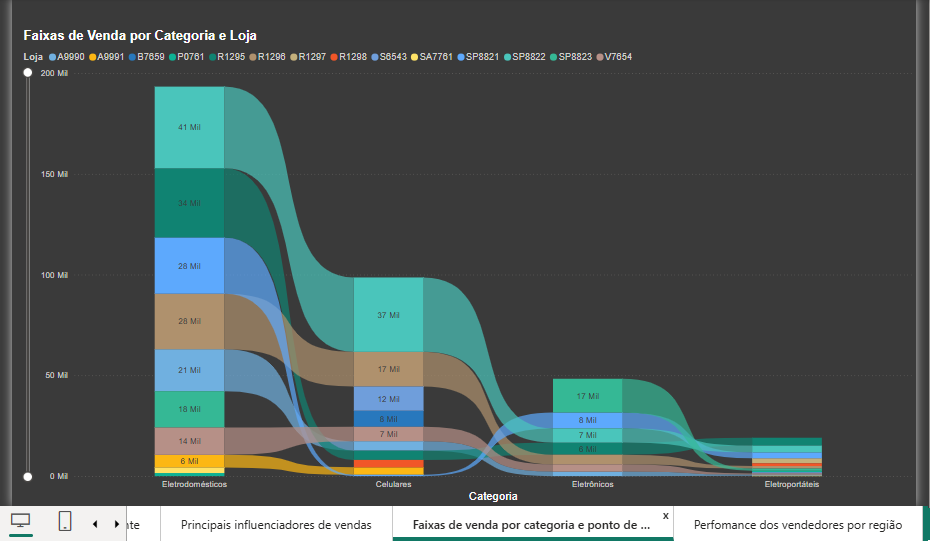

The page's visual inventory and layout, read from the dashboard file:
{"tool":"powerbi","page":{"name":"Faixas de venda por categoria e ponto de venda","canvas":[1280,720],"ordinal":3},"visuals":[{"type":"ribbonChart","title":"Faixas de Venda por Categoria e Loja","fields":{"Category":["Vendas.Categoria"],"Y":["Sum(Vendas.ValorVenda)"],"Series":["Vendas.Loja"]},"box":[11.3,42.5,1268.5,677.5],"z":0}]}

Visuals, with their boxes on the page's 1280x720 design canvas (x1, y1, x2, y2). These are canvas units, not pixel positions in the 930x541 screenshot, which may show the page scaled, cropped or inside an application window:
"Faixas de Venda por Categoria e Loja" ribbonChart: (left=11, top=42, right=1280, bottom=720)
